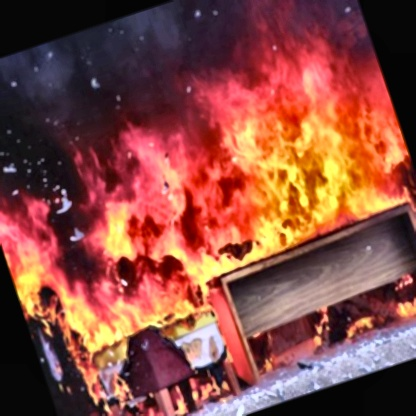fire: (0, 53, 416, 393)
